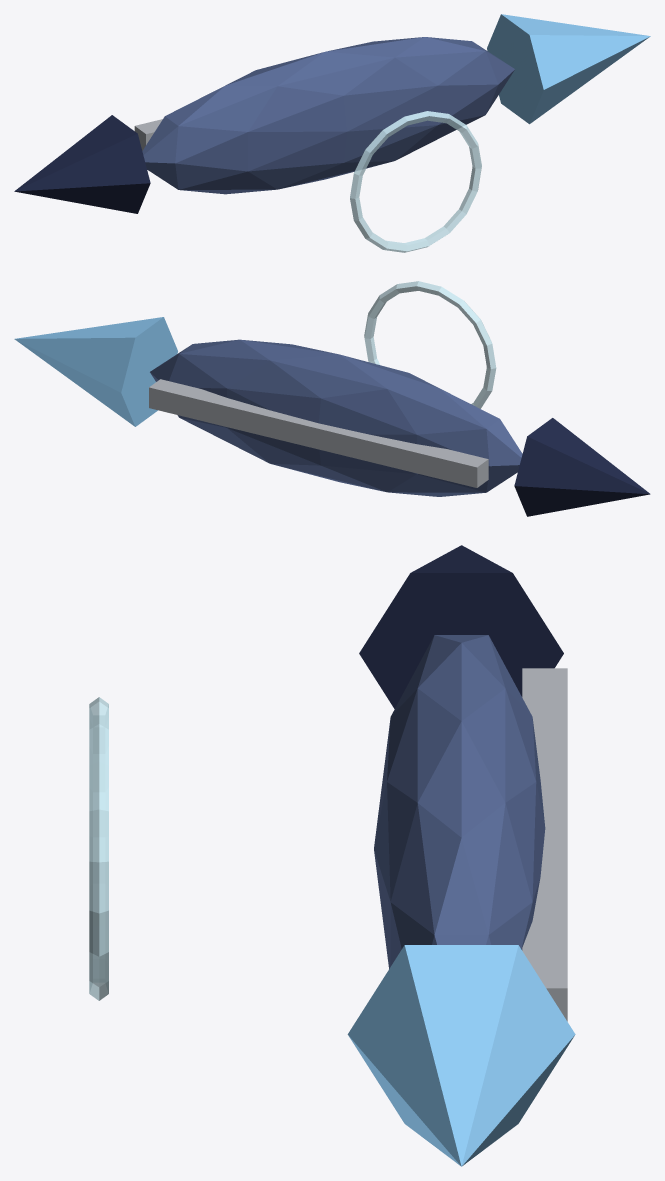
The model's file is 05_skyship_hull.glb.
3 renders of one model, top to bottom at view 1: azimuth 30°, elevation 25°; view 2: azimuth 150°, elevation 25°; view 3: azimuth 270°, elevation 25°, orthographic. The views are drawn at different scales.
Visible parts, largest first — view 1: hull_low_poly, bow_upgrade, stern_fin, size_class_ring, keel_plate; view 2: hull_low_poly, keel_plate, bow_upgrade, stern_fin, size_class_ring; view 3: hull_low_poly, bow_upgrade, stern_fin, keel_plate, size_class_ring.
Boxes of the visible parts, x1,y1,x2,y2 form: hull_low_poly: (142,37,514,194); bow_upgrade: (487,14,650,124); stern_fin: (14,115,150,213); size_class_ring: (350,111,481,252); keel_plate: (134,119,162,150); hull_low_poly: (150,339,522,496); keel_plate: (149,379,488,487); bow_upgrade: (14,317,177,426); stern_fin: (514,418,650,516); size_class_ring: (364,281,496,408); hull_low_poly: (374,635,545,968); bow_upgrade: (347,945,575,1166); stern_fin: (359,545,563,708); keel_plate: (522,668,567,1021); size_class_ring: (89,697,108,1000).
Size of the model in its own units: 5.29 by 1.08 by 1.75.
